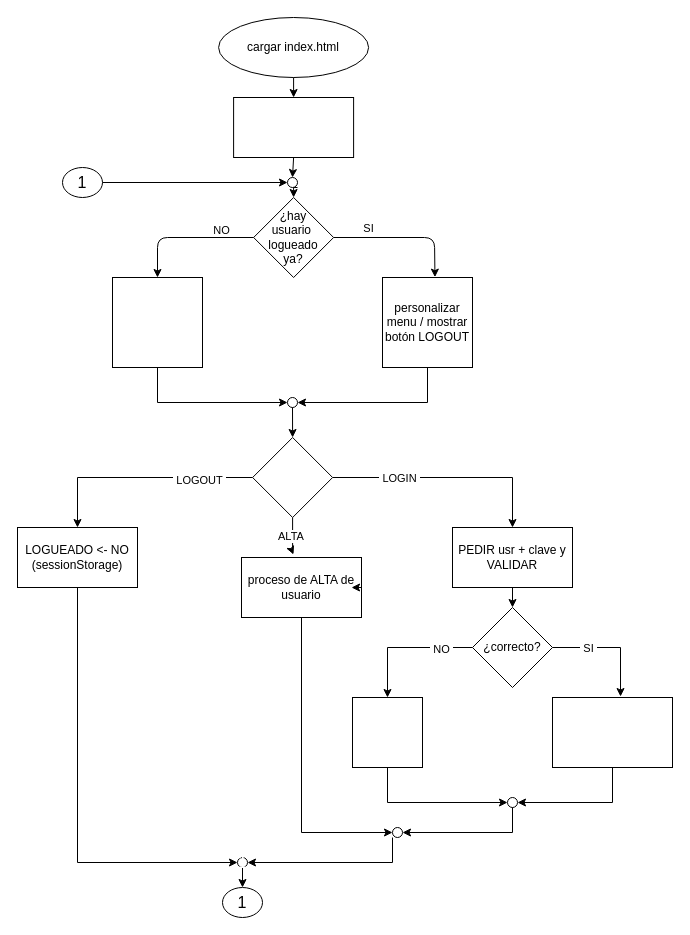
Image size: 690x935. Some labels were removed from this diagram. The centre of each missing label's shape, as x and y in pixels:
"LOGUEADO <- SI (sessionStorage)" goes at (x=612, y=732).
"mensaje de error" goes at (x=387, y=732).
"Recuperar LOGUEADO (desde SessionStorage)" goes at (x=293, y=127).
"restaurar menu / mostrar LOGIN" goes at (x=157, y=322).
"¿Alta, Login o Logout?" goes at (x=292, y=477).
